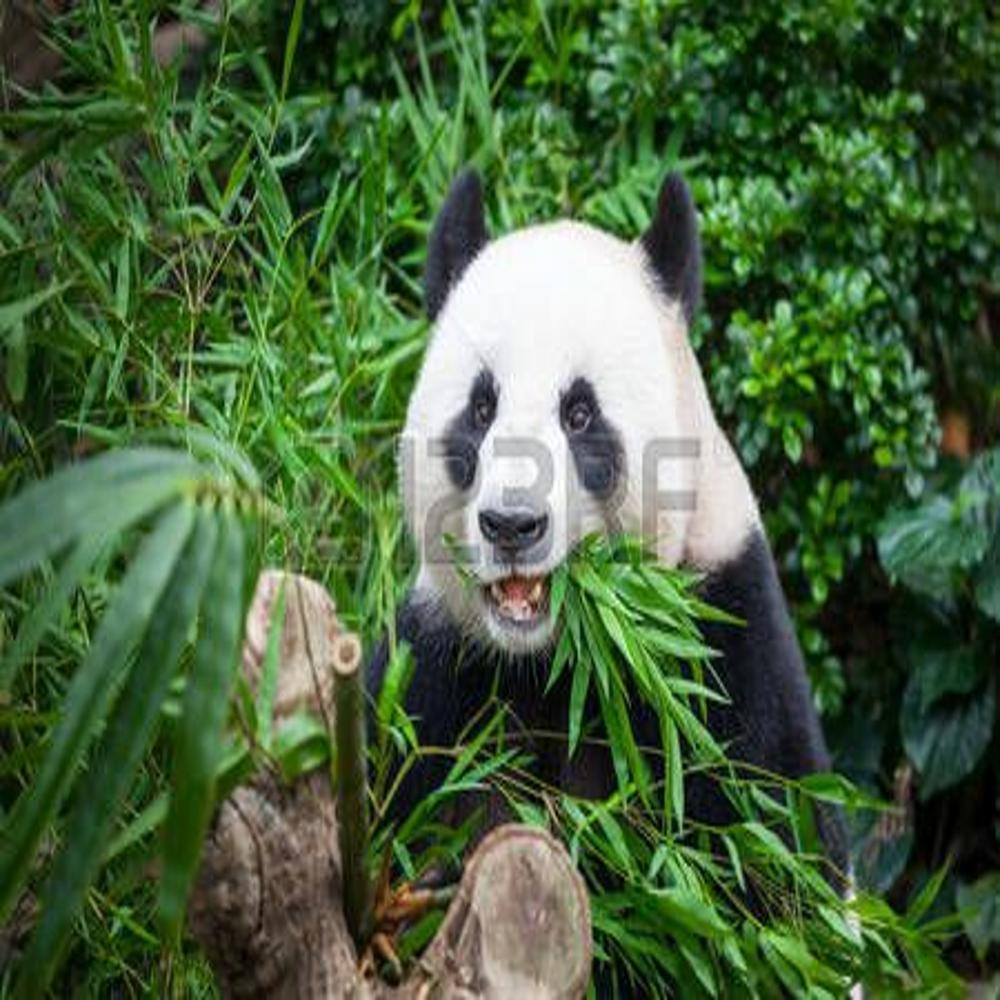panda: (402, 178, 831, 829)
